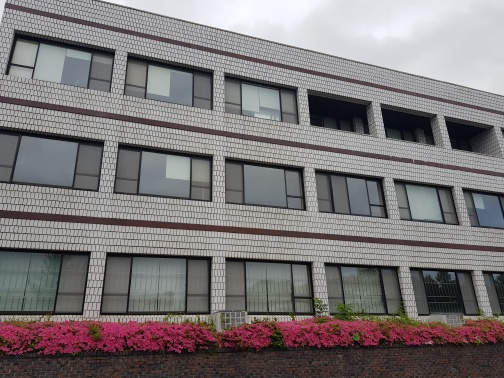Foreign Language Institute: (11, 1, 504, 358), (13, 24, 308, 147), (98, 130, 394, 235)
